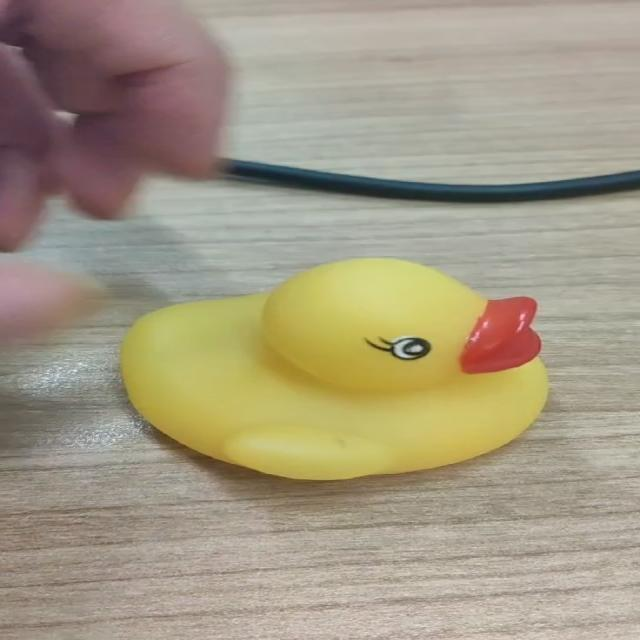rubber-duck: (121, 257, 546, 477)
